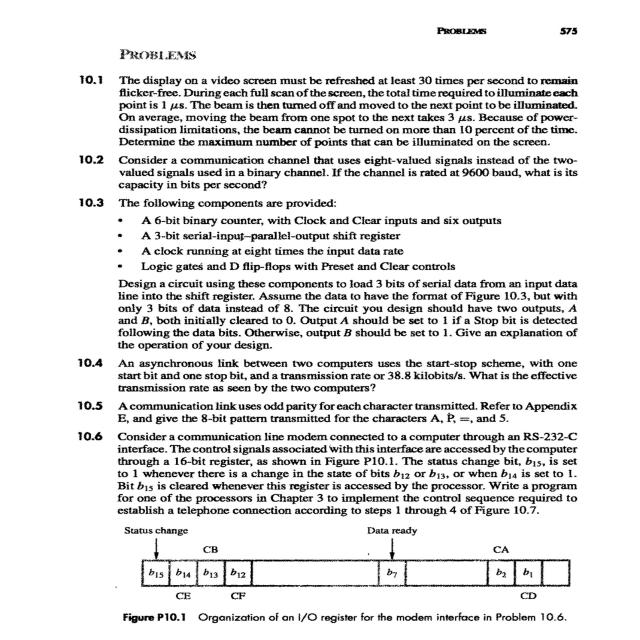diagram: (100, 517, 640, 640)
